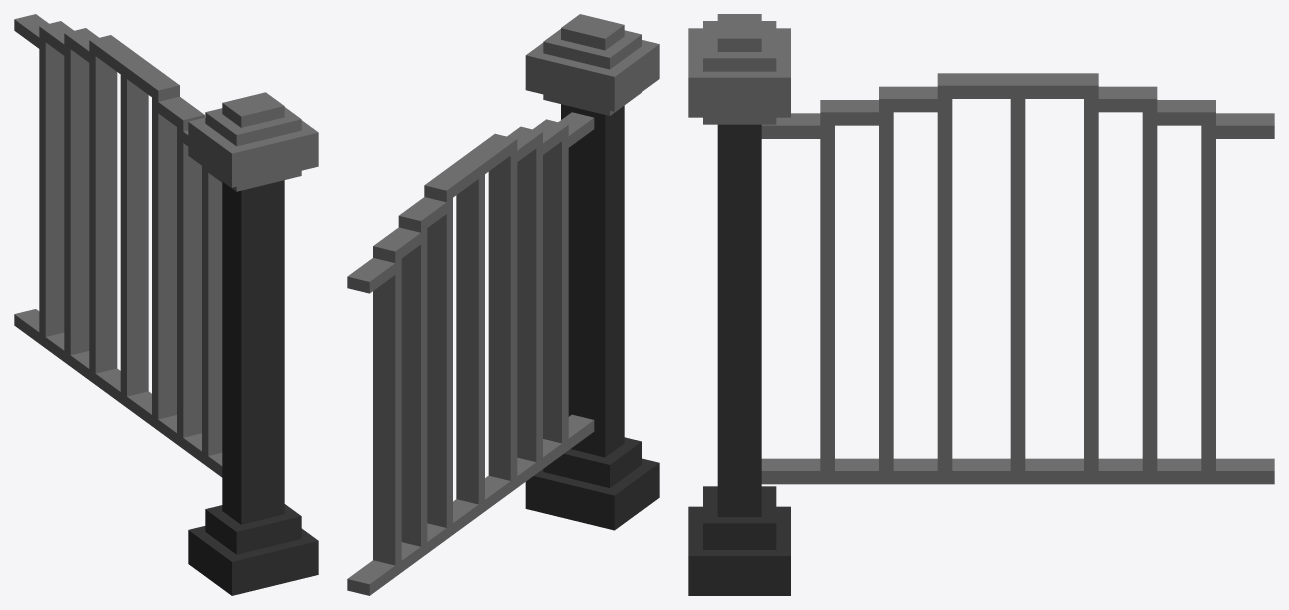
The model's file is fence.obj.
3 views of the same model, side by side, from view 1: azimuth 30°, elevation 25°; view 2: azimuth 150°, elevation 25°; view 3: azimuth 270°, elevation 25° (orthographic). The views are drawn at different scales.
Size of the model in its own units: 0.8 by 4.1 by 4.
1 material, 1 textured.
